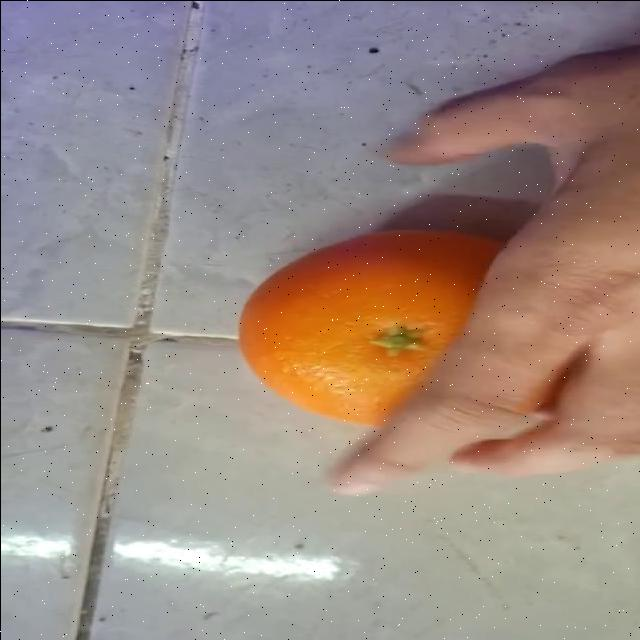Orange: (237, 227, 506, 430)
